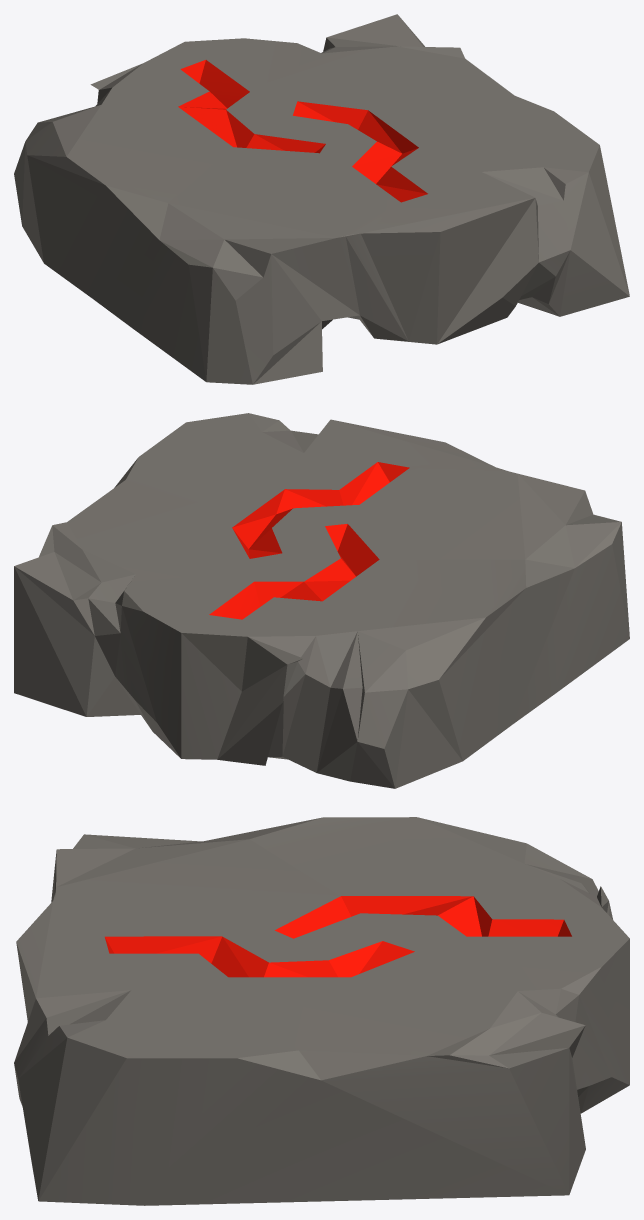
Rendered from SM_Env_Rune_Square_05.obj.
3 views of the same model, one above another, from view 1: azimuth 30°, elevation 25°; view 2: azimuth 150°, elevation 25°; view 3: azimuth 270°, elevation 25° (orthographic). The views are drawn at different scales.
Parts seen in each view (by area): view 1: SM_Env_Rune_Square_05; view 2: SM_Env_Rune_Square_05; view 3: SM_Env_Rune_Square_05.
Boxes of the visible parts, x1,y1,x2,y2 form: SM_Env_Rune_Square_05: (14,14,629,384); SM_Env_Rune_Square_05: (14,413,629,788); SM_Env_Rune_Square_05: (14,817,629,1205).
Size of the model in its own units: 0.5625 by 0.1609 by 0.6072.
